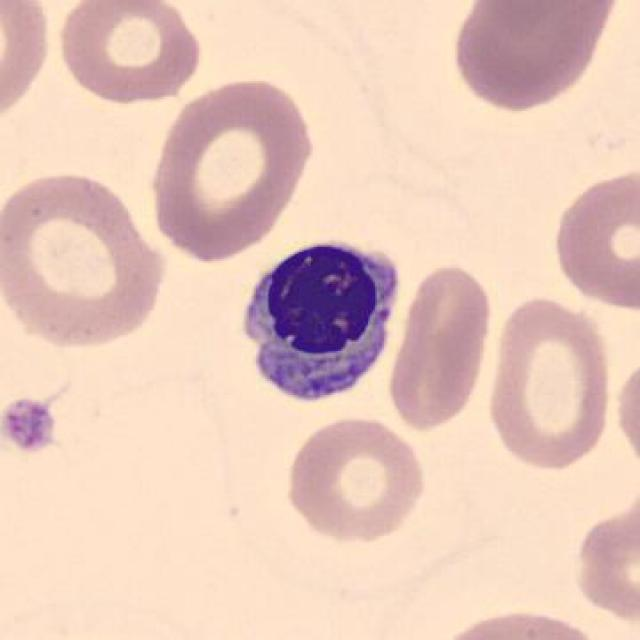Platelets: (2, 395, 60, 457)
RBC: (142, 72, 320, 263), (0, 167, 172, 354), (482, 293, 617, 474), (281, 412, 428, 548), (446, 2, 626, 113), (380, 261, 496, 432), (54, 0, 206, 108), (548, 164, 638, 316), (569, 494, 640, 631), (430, 608, 608, 640), (613, 349, 640, 478)
